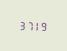nine: (39, 20, 45, 31)
one: (32, 19, 38, 31)
seven: (25, 19, 31, 30)
three: (18, 19, 24, 30)
